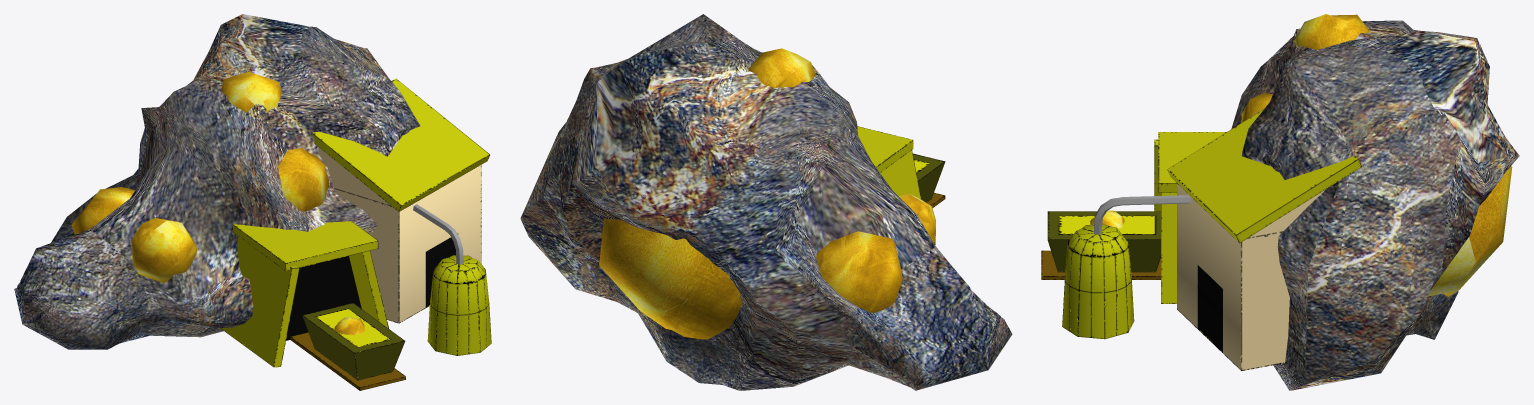
The model's file is gold_mine_lod2.fbx.
3 renders of one model, left to right at view 1: azimuth 30°, elevation 25°; view 2: azimuth 150°, elevation 25°; view 3: azimuth 270°, elevation 25°, orthographic. The views are drawn at different scales.
Parts seen in each view (by area): view 1: gold_mine_mesh; view 2: gold_mine_mesh; view 3: gold_mine_mesh.
Part boxes in pixels (x1=…): gold_mine_mesh: x1=14, y1=14, x2=491, y2=390; gold_mine_mesh: x1=520, y1=14, x2=1012, y2=390; gold_mine_mesh: x1=1041, y1=14, x2=1519, y2=390.
Bounding box in the file's own units: 26.98 × 16.85 × 23.55.
